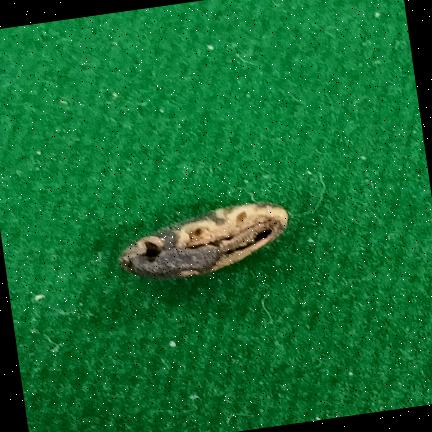partial-black: (118, 202, 289, 279)
